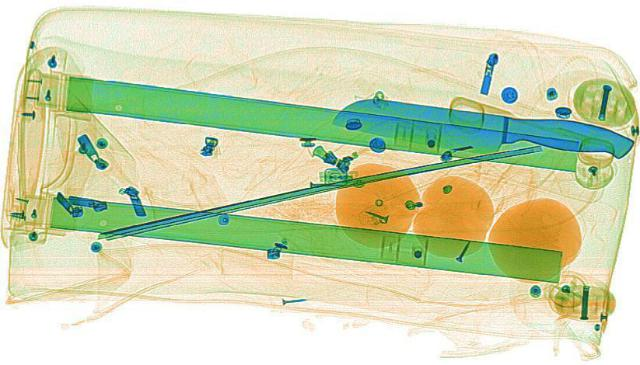Knife: (328, 84, 638, 174)
